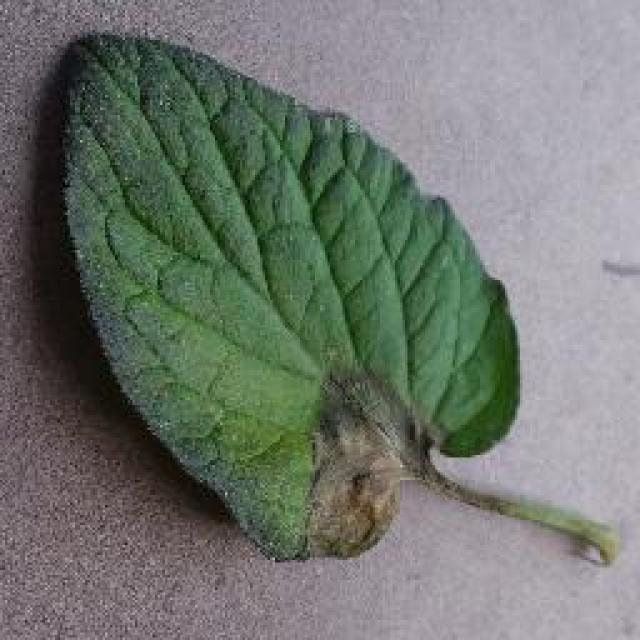Tomato Late Blight: (242, 338, 555, 595)
